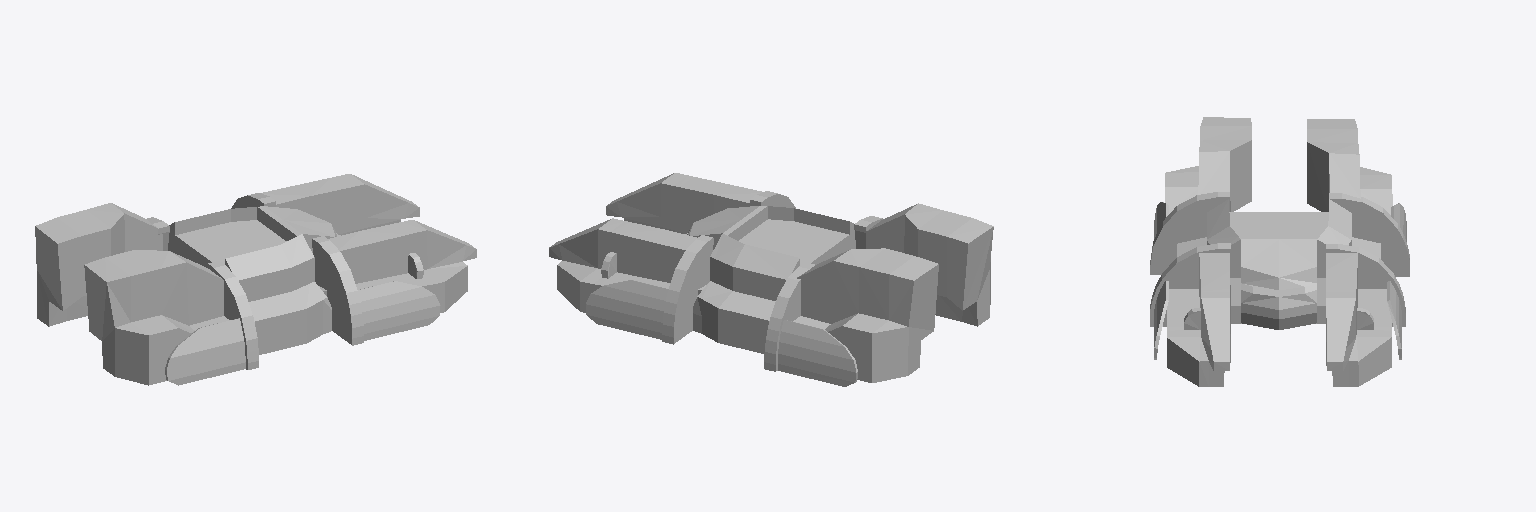
The model's file is Thraxus.obj.
3 views of the same model, side by side, from view 1: azimuth 30°, elevation 25°; view 2: azimuth 150°, elevation 25°; view 3: azimuth 270°, elevation 25° (orthographic).
Parts seen in each view (by area): view 1: Zephyr:Mesh; view 2: Zephyr:Mesh; view 3: Zephyr:Mesh.
Boxes of the visible parts, <box> form: Zephyr:Mesh: <box>35,174,476,385</box>; Zephyr:Mesh: <box>549,173,993,386</box>; Zephyr:Mesh: <box>1150,117,1409,386</box>.
Size of the model in its own units: 11.44 by 2.95 by 6.88.